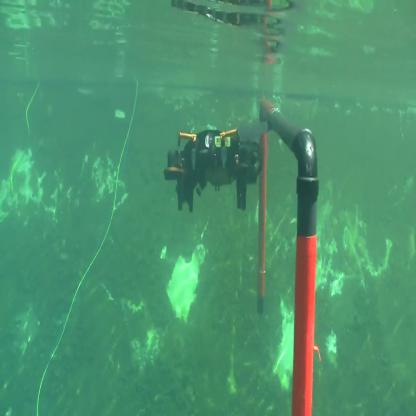gate: (250, 93, 328, 416)
